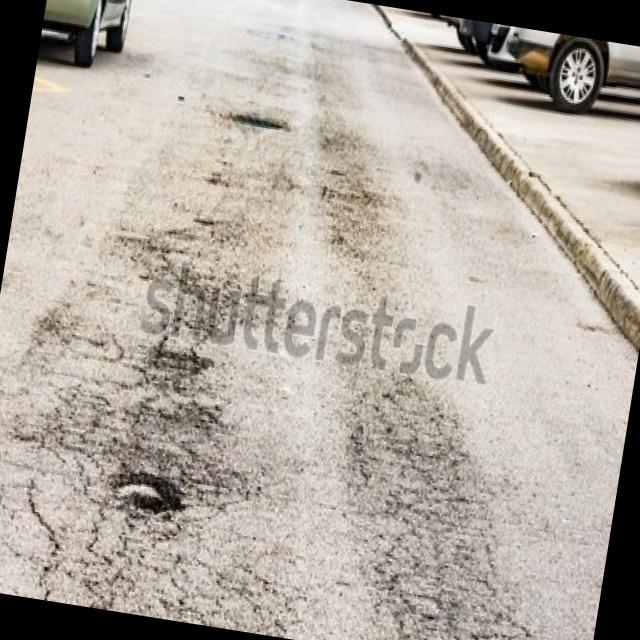Potholes: (88, 432, 209, 552), (128, 324, 226, 398), (218, 91, 305, 149)
